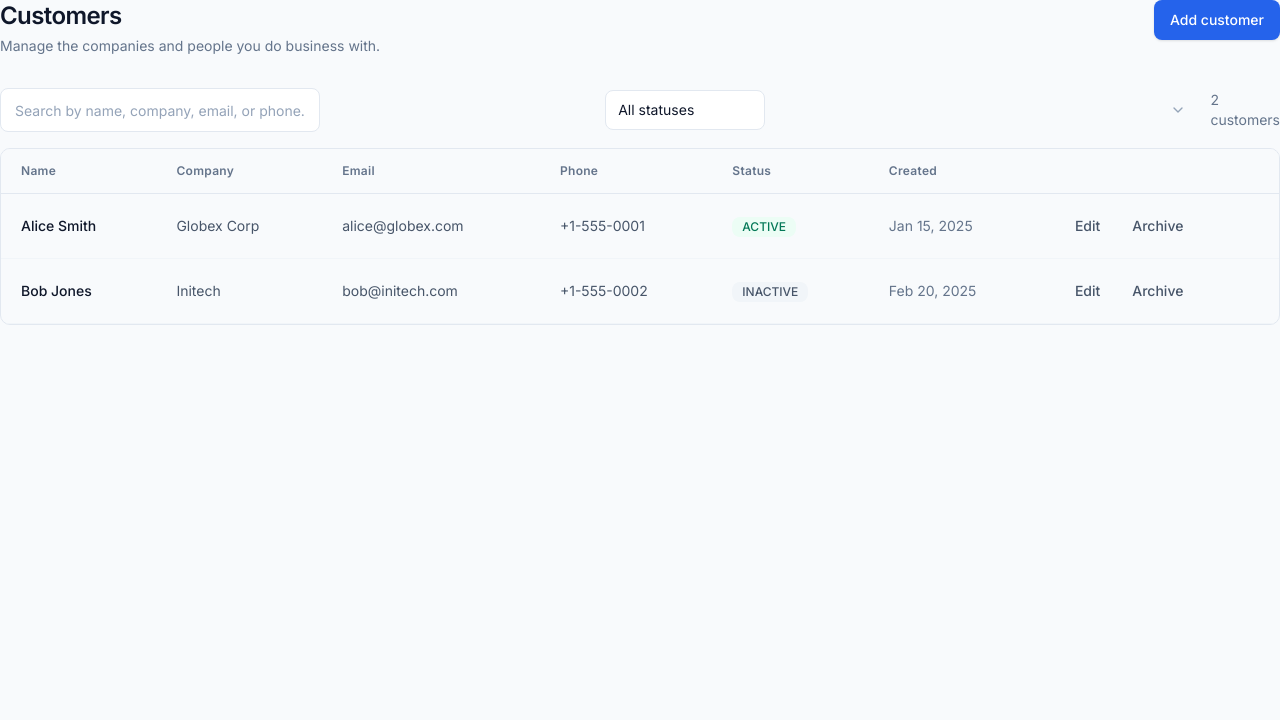
it: CustomersPage › Archive button shows confirmation modal
This screenshot has width=1280, height=720.
Check: the text "Alice Smith" is shown, box [21,217,96,234]
Click the button "Archive" in the row of "Alice Smith" at (1158, 226), box [1118,210,1197,242]
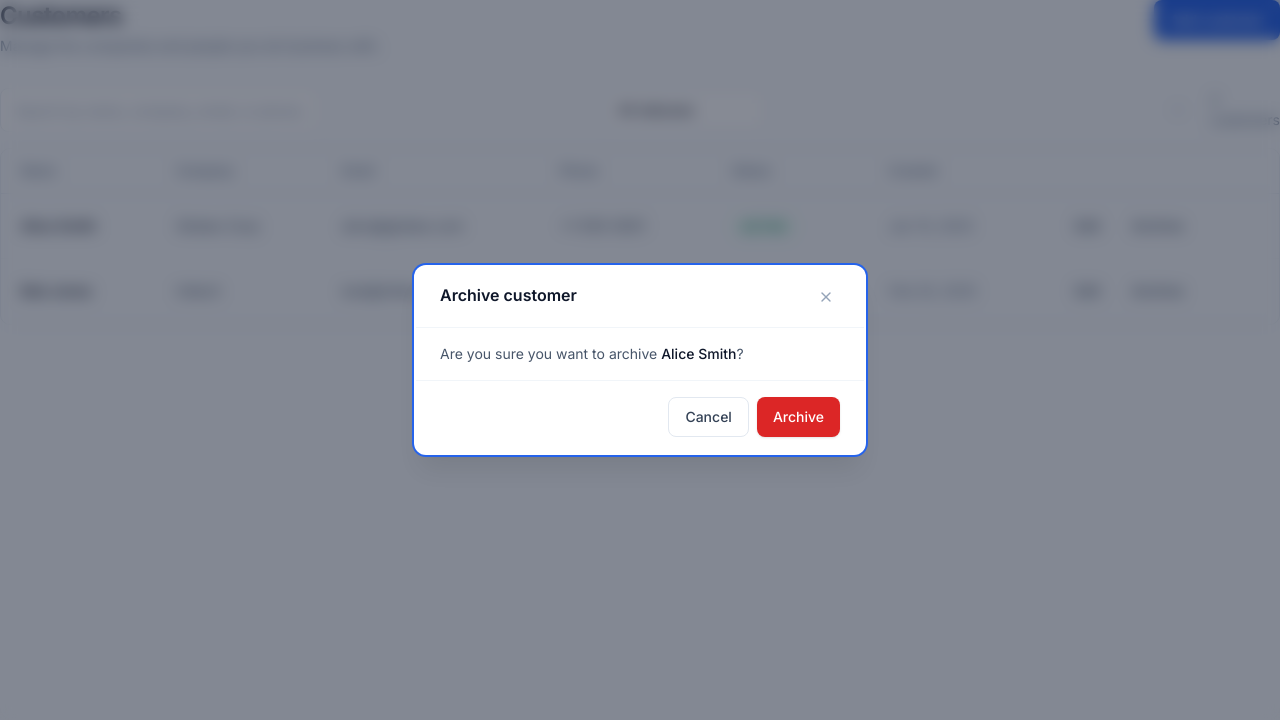
Check: the heading "Archive customer" is shown, box [440,283,577,307]
Check: the text "Are you sure you want to archive Alice Smith?" is shown, box [440,345,744,362]
